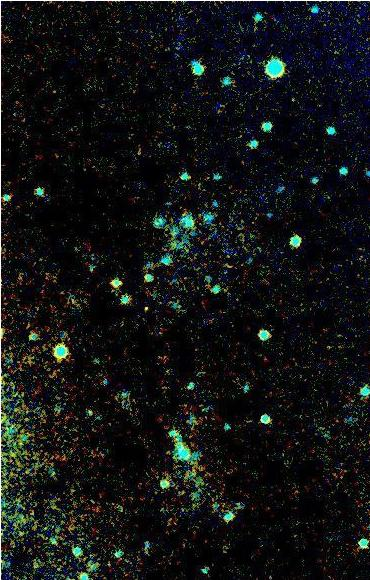star: (129, 293, 159, 323)
